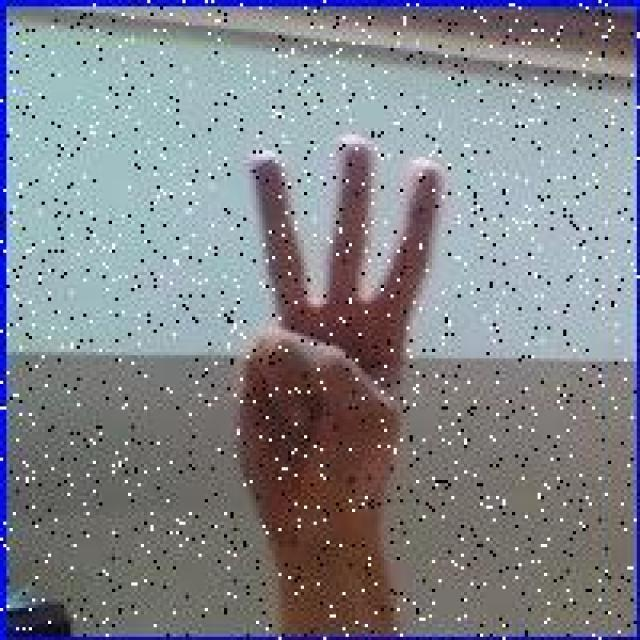W: (237, 128, 448, 547)
